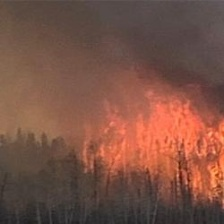fire: (131, 118, 224, 200)
